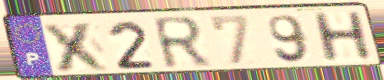2: (106, 19, 158, 71)
7: (206, 13, 257, 69)
9: (267, 14, 313, 65)
H: (309, 10, 376, 65)
R: (149, 14, 214, 72)
X: (40, 20, 114, 73)
